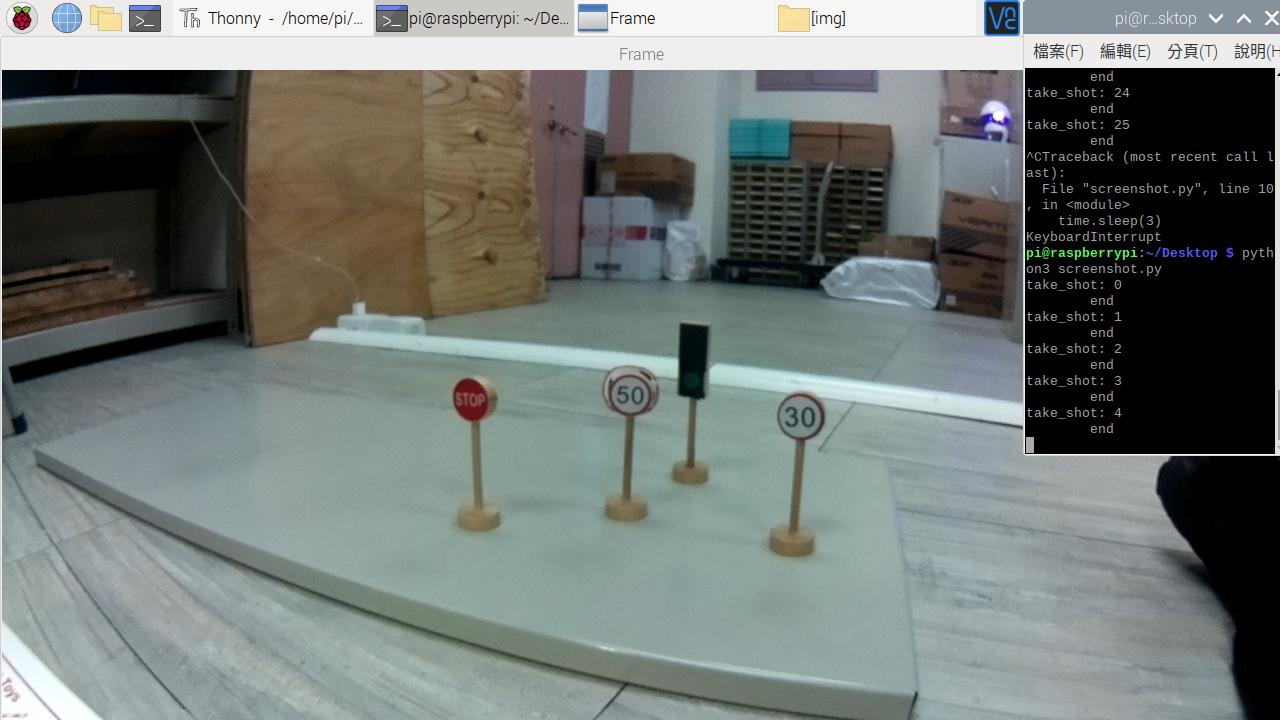Green: (681, 314, 703, 404)
Speed30: (779, 388, 820, 439)
Speed50: (609, 368, 650, 414)
Stop: (445, 374, 497, 418)
